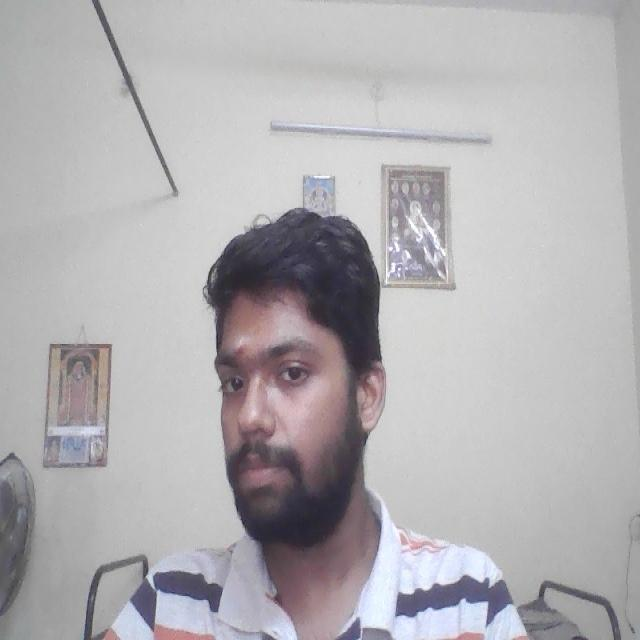Focused: (208, 310, 360, 515)
